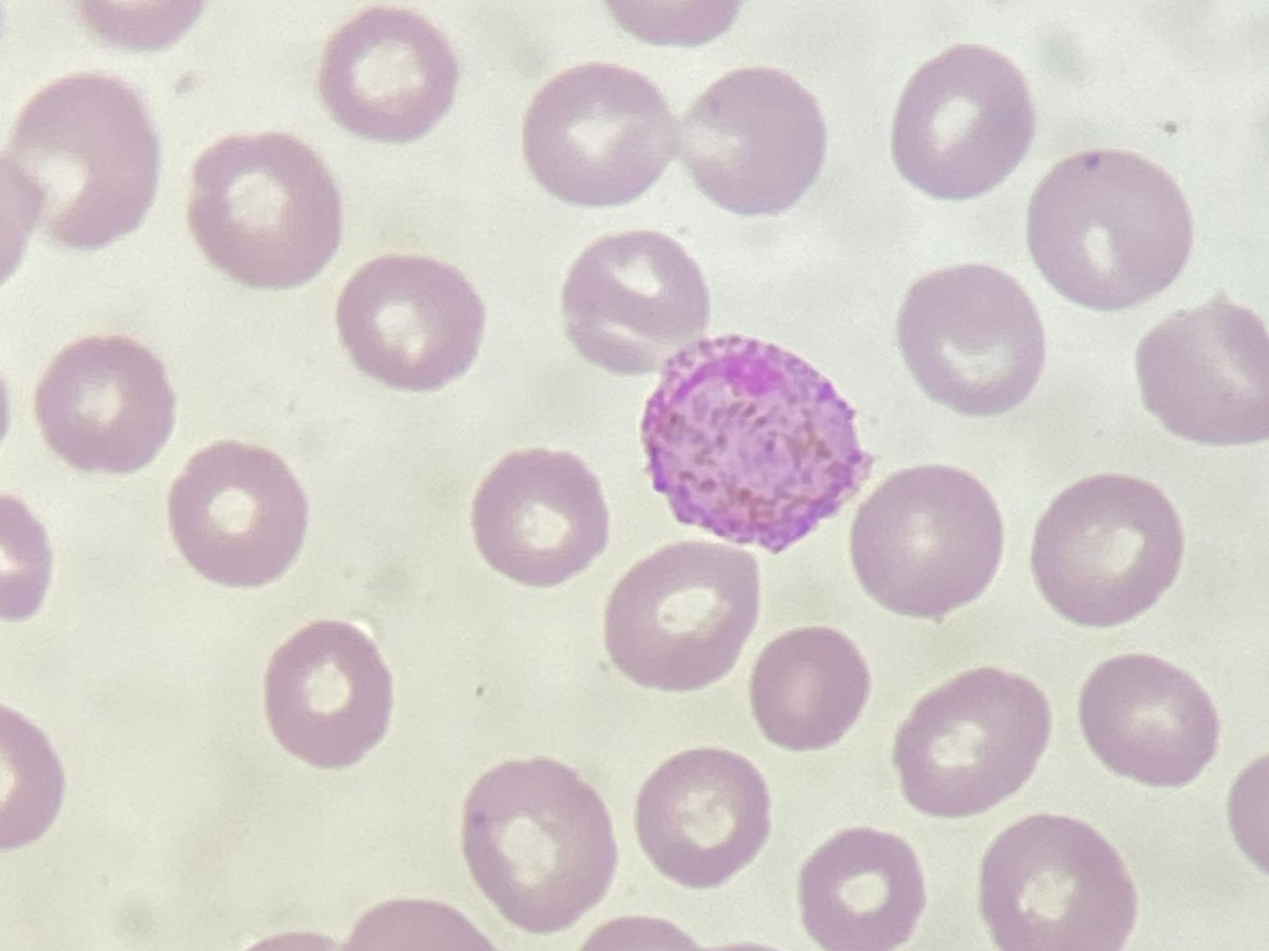Infected: (641, 336, 875, 555)
Uninfected: (459, 758, 614, 932), (1031, 146, 1194, 311), (8, 73, 159, 250), (189, 132, 342, 287), (893, 667, 1050, 816), (601, 543, 759, 691), (850, 467, 1002, 619), (1132, 287, 1269, 453), (1031, 475, 1180, 625), (899, 265, 1044, 417), (560, 230, 712, 374), (891, 44, 1034, 197), (523, 63, 674, 206), (685, 67, 827, 213), (980, 817, 1132, 950), (167, 442, 306, 586), (336, 254, 482, 389), (261, 621, 391, 769), (470, 449, 609, 586), (634, 747, 768, 889), (34, 334, 172, 471), (1077, 653, 1216, 787), (319, 7, 459, 139), (797, 828, 925, 950), (749, 627, 867, 749)
